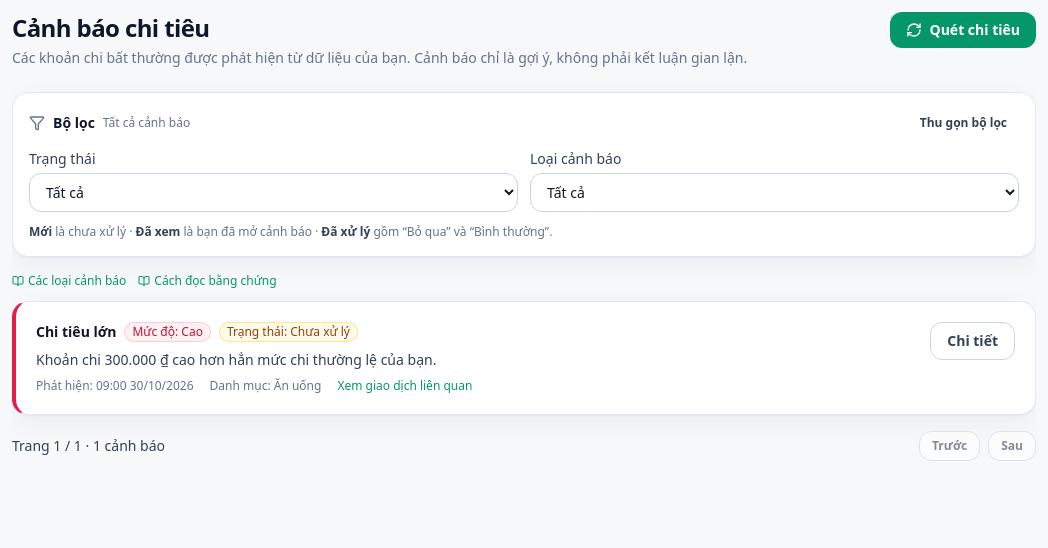
AlertsPage — scan › surfaces a rate limit with the Retry-After wait
Expected: the text "Mức độ: Cao" is shown, top-left (124, 322), bottom-right (211, 342)
Click the button "Quét chi tiêu". click: [963, 30]
box: top-left (890, 12), bottom-right (1036, 48)
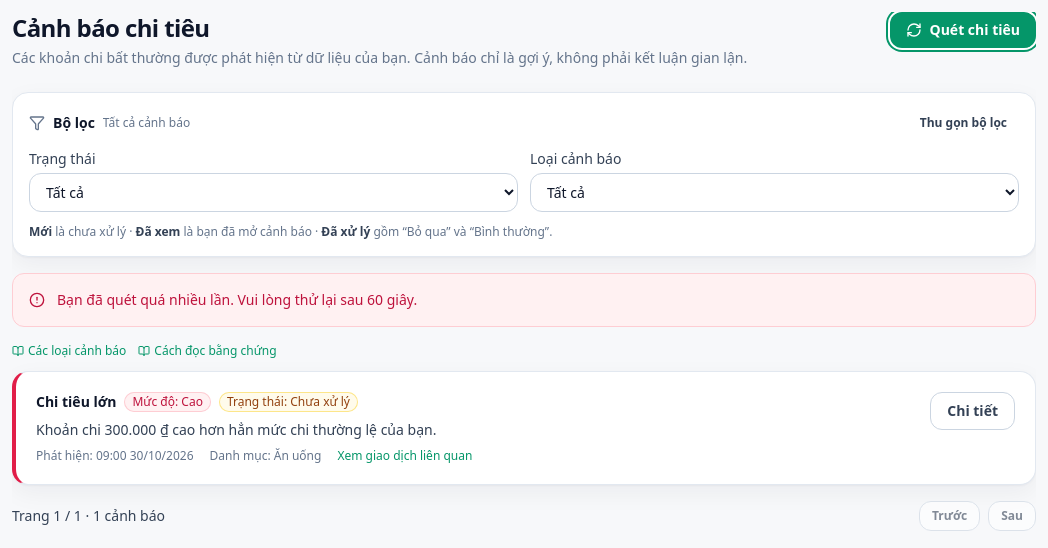
Expected: the text "Bạn đã quét quá nhiều lần. Vui lòng thử lại sau 60 giây." is shown, top-left (57, 290), bottom-right (417, 309)
